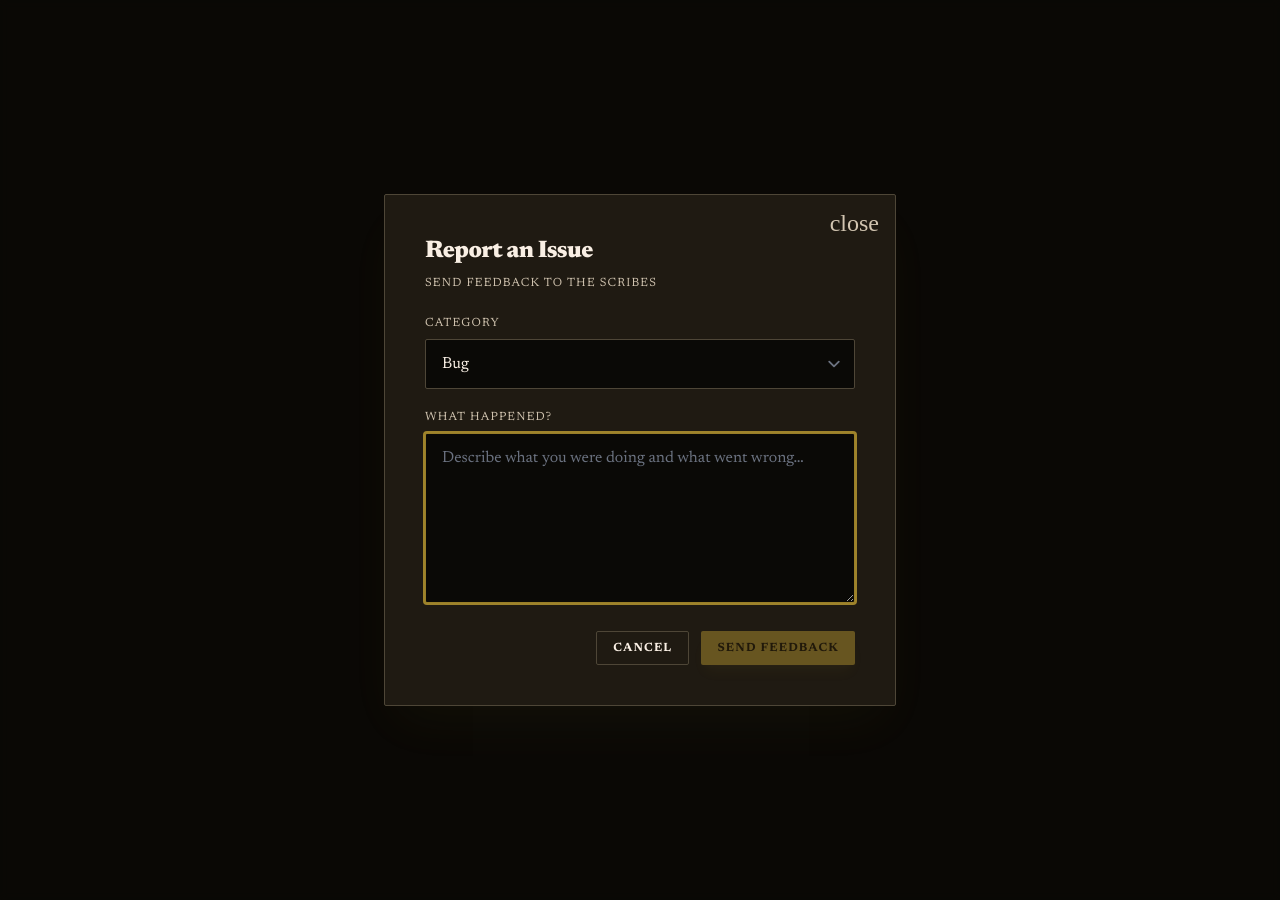
Scenario: FeedbackModal › submit button is disabled until description has content
Check: the button "Send feedback" is disabled, box [701, 631, 855, 665]
In the text box: (640, 518) [425, 433, 855, 603], type "something broken"
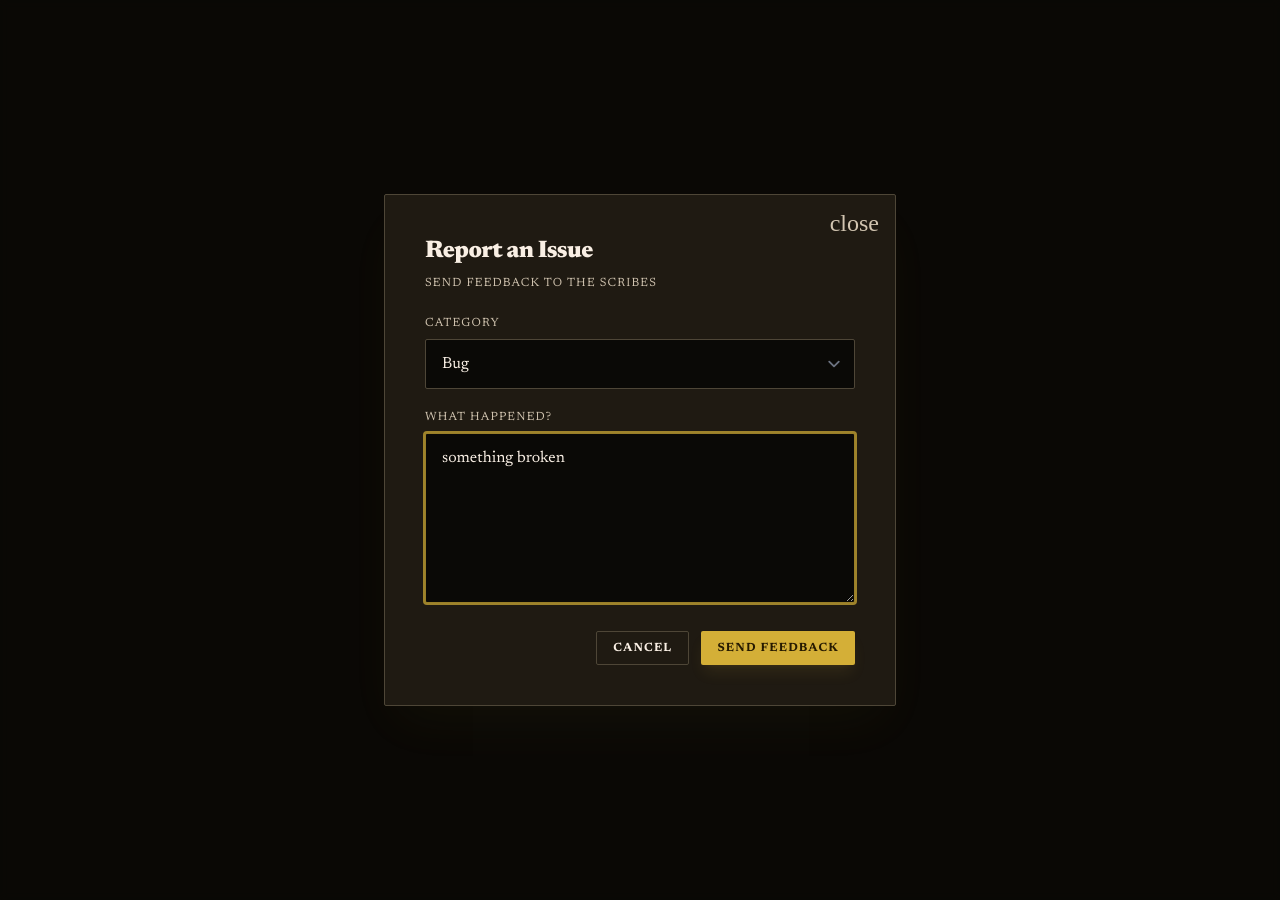
Check: the button "Send feedback" is enabled, box [701, 631, 855, 665]
